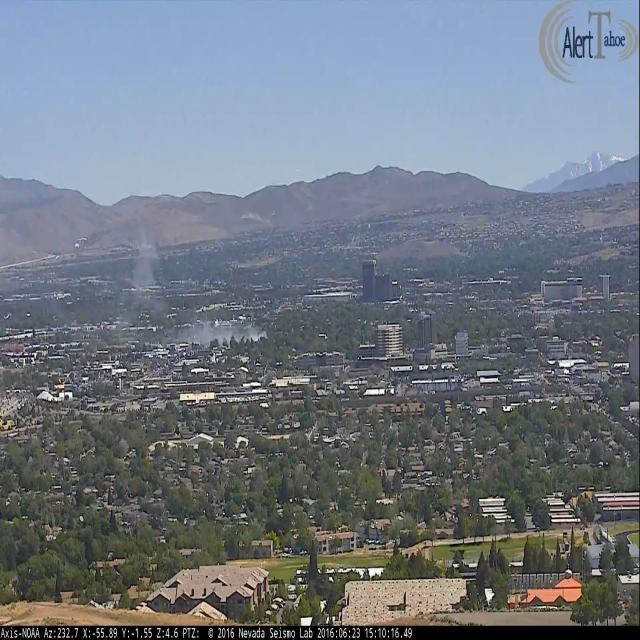smoke: (122, 231, 266, 340)
